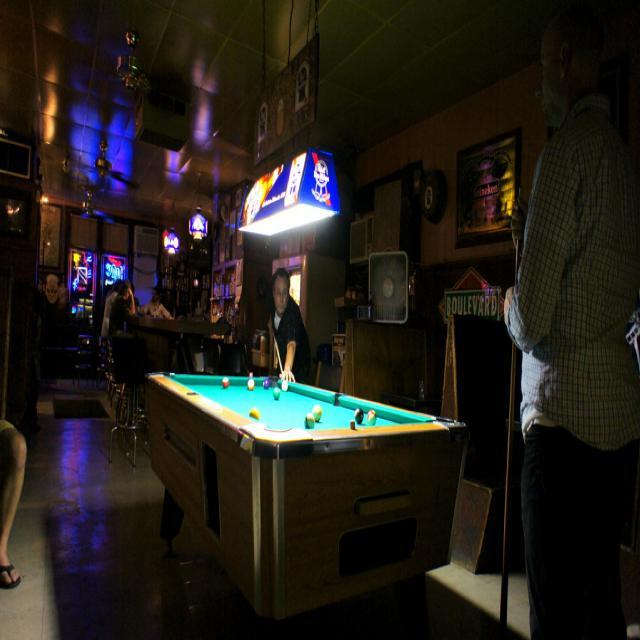Ball: (305, 414, 315, 431), (366, 410, 377, 425), (313, 407, 322, 424), (355, 408, 364, 425), (250, 408, 262, 420), (245, 379, 256, 391), (220, 376, 230, 389), (280, 379, 289, 392), (263, 380, 271, 390), (274, 388, 280, 400)
Billiard table: (146, 376, 468, 464)
